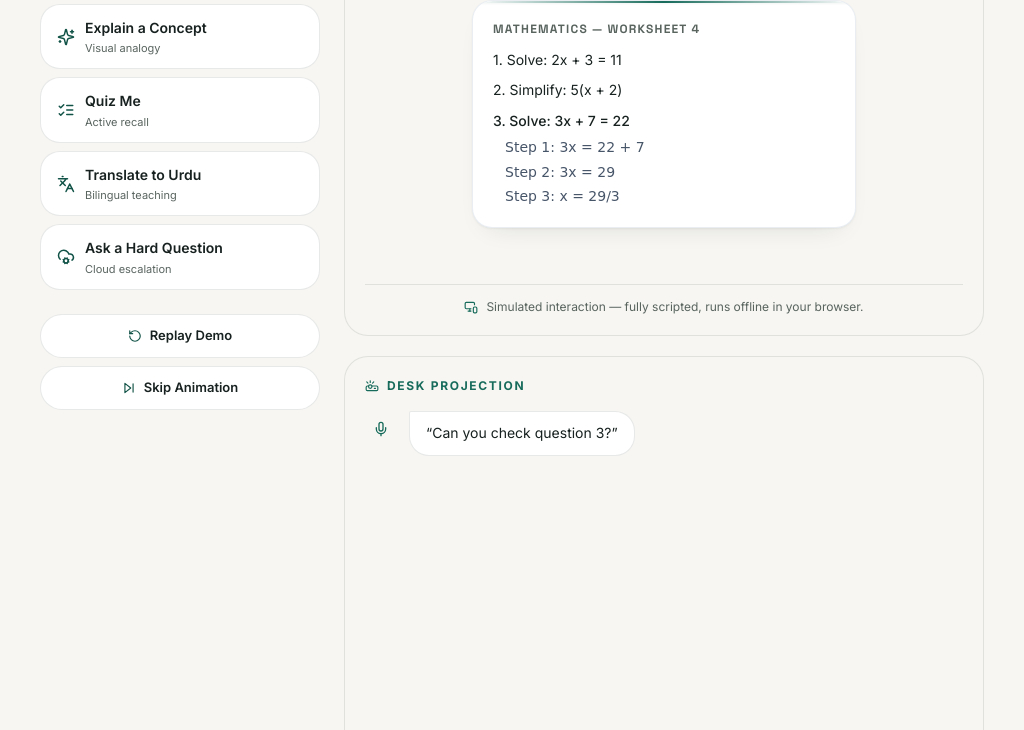
it: interactive demo › shows processing status for the scan mode after skipping
(page scrolled)
Click the button with test id "demo-skip" at (180, 388), box x1=40 y1=366 x2=320 y2=410
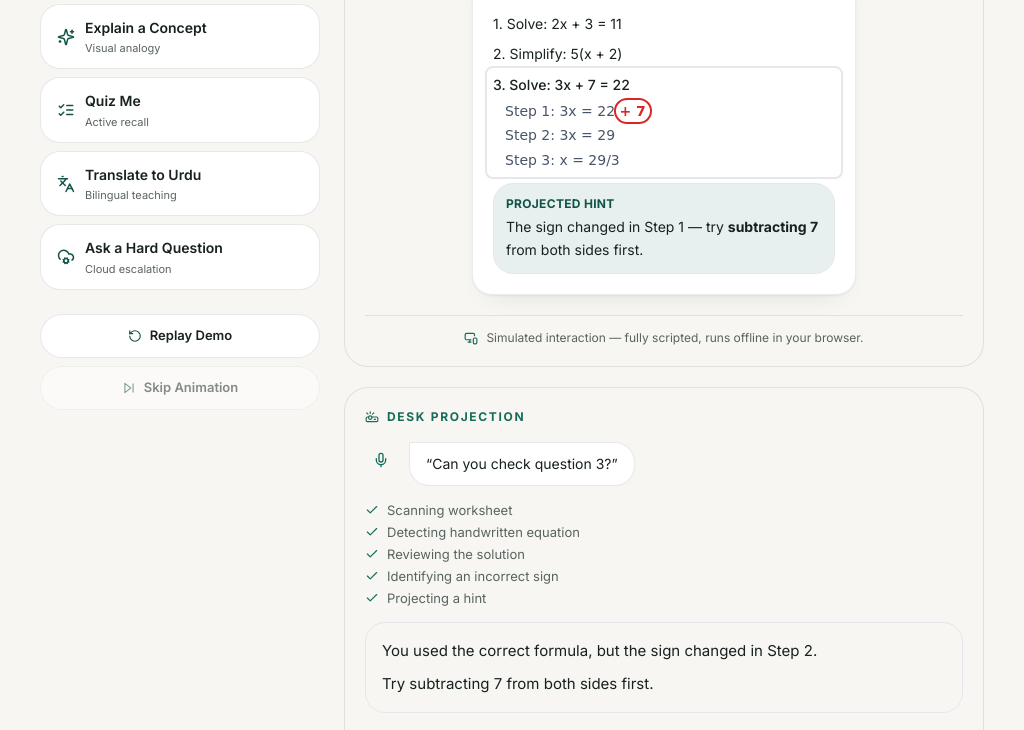
Result: the element with test id "scan-hint" is shown at x1=493 y1=183 x2=835 y2=274
